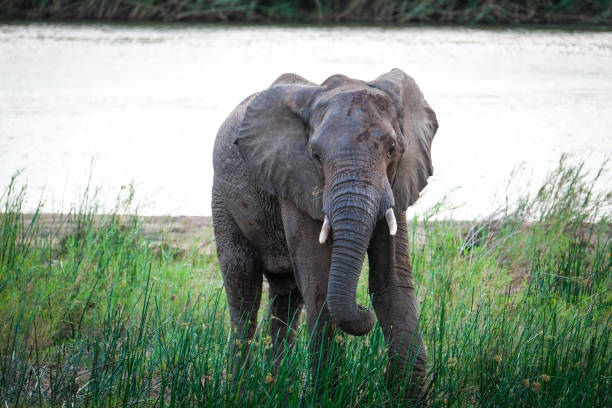africanelephant: (266, 77, 408, 329)
